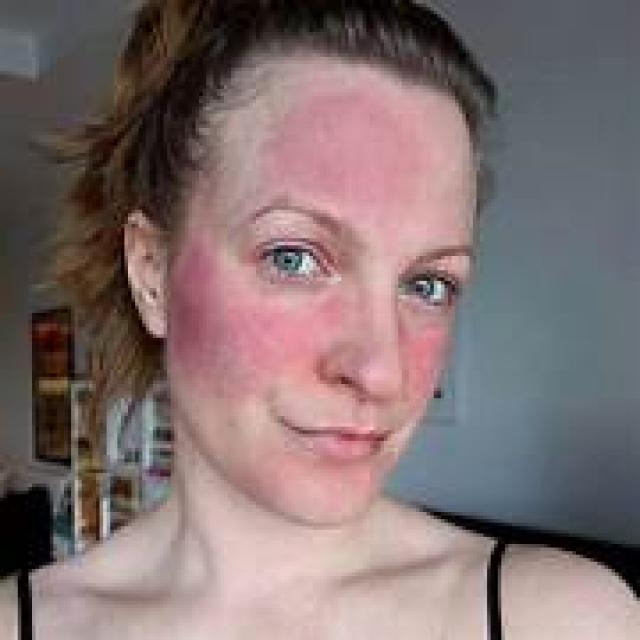pigmentation: (168, 258, 251, 366)
